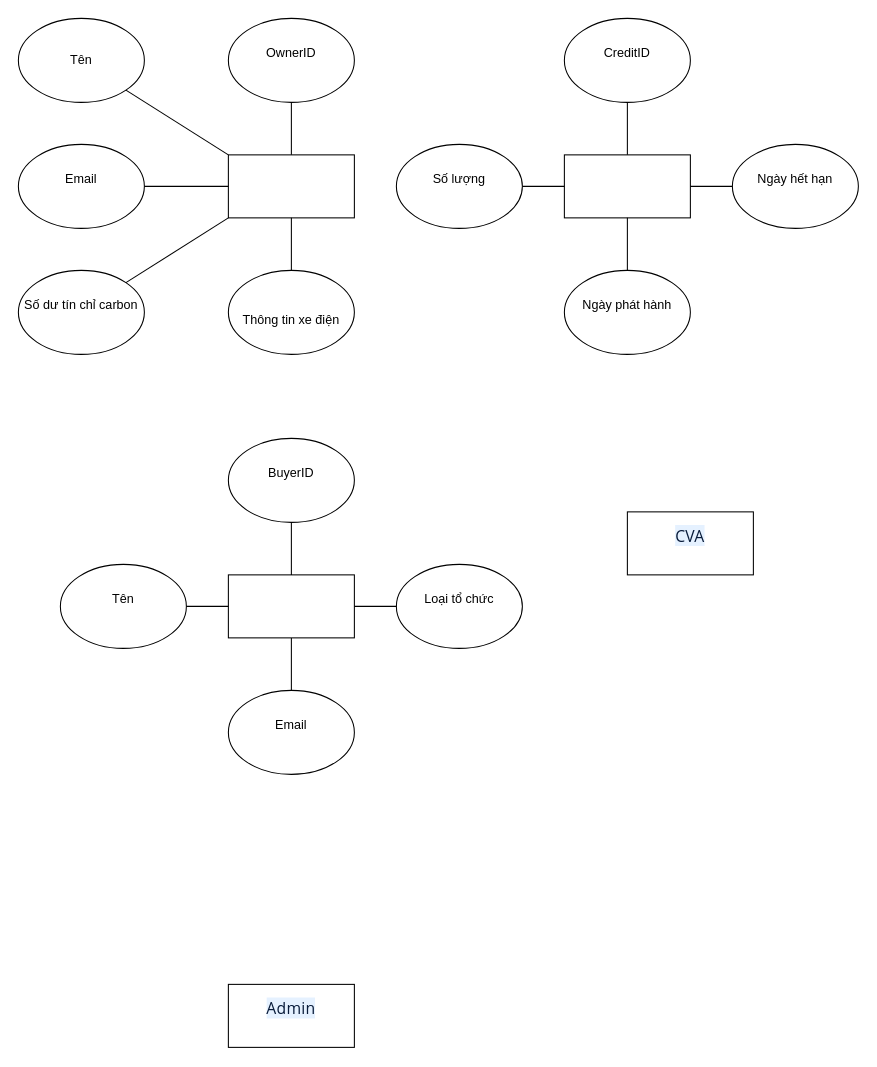
Image size: 877x1067. Some labels were removed from this diagram. Each missing label, with the centre of its shape:
Carbon Credit: the point at 626,186
CC Buyer: the point at 290,606
EV Owner: the point at 290,186
